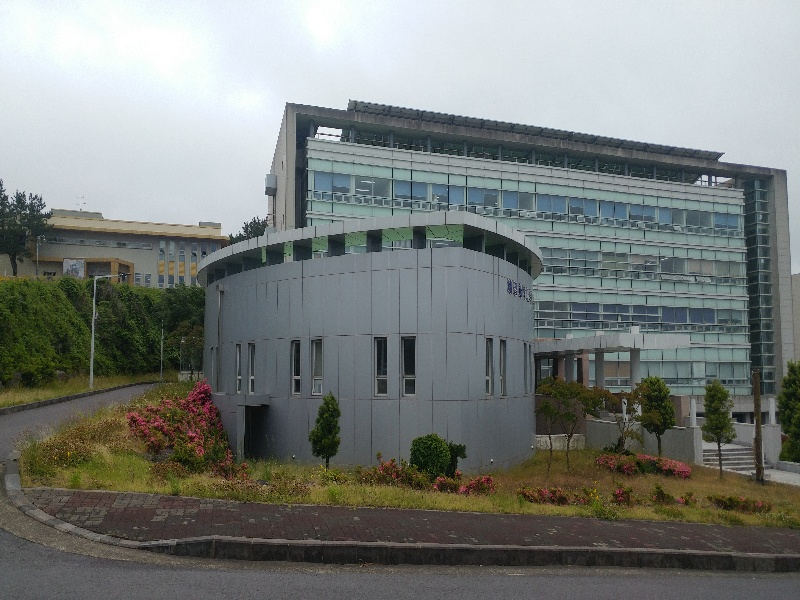College of Marine Science: (177, 88, 800, 458), (262, 106, 793, 454), (188, 250, 550, 472)
Military Education Unit: (29, 212, 222, 285), (61, 229, 164, 285)
